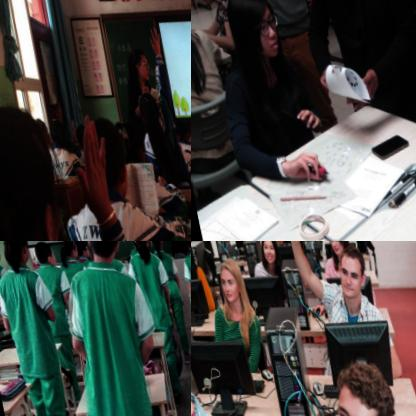head: (317, 347, 403, 416), (78, 103, 135, 201), (218, 0, 286, 64), (329, 241, 374, 300), (211, 248, 247, 302), (116, 113, 147, 167), (132, 86, 163, 129), (76, 241, 123, 268), (126, 40, 151, 82), (0, 241, 31, 269), (45, 111, 66, 147), (68, 114, 89, 149), (30, 241, 57, 268), (256, 241, 280, 264), (172, 111, 189, 138), (56, 241, 77, 260), (324, 241, 351, 255), (73, 241, 90, 260), (146, 241, 165, 250)
